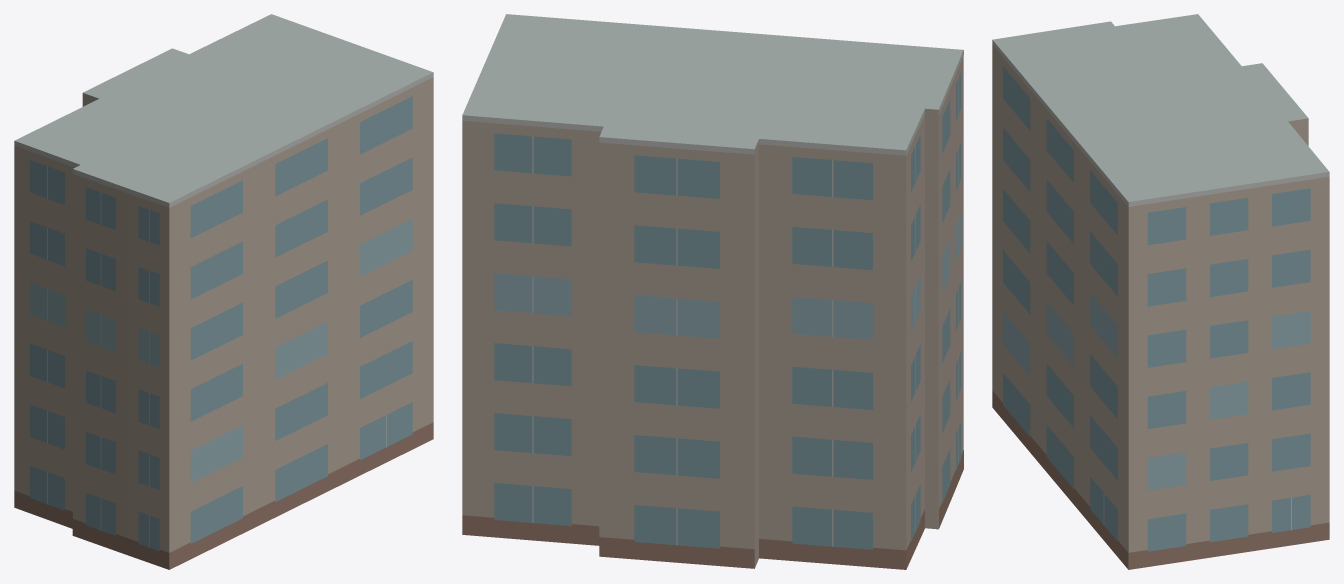
The model's file is survey-upis-32541949.glb.
3 views of the same model, side by side, from view 1: azimuth 30°, elevation 25°; view 2: azimuth 150°, elevation 25°; view 3: azimuth 270°, elevation 25° (orthographic). The views are drawn at different scales.
Parts seen in each view (by area): view 1: survey-upis-32541949.tmp; view 2: survey-upis-32541949.tmp; view 3: survey-upis-32541949.tmp.
Boxes of the visible parts, x1,y1,x2,y2 form: survey-upis-32541949.tmp: [14, 14, 433, 569]; survey-upis-32541949.tmp: [462, 14, 963, 569]; survey-upis-32541949.tmp: [992, 14, 1329, 569].
Size of the model in its own units: 20.41 by 18.6 by 15.46.
